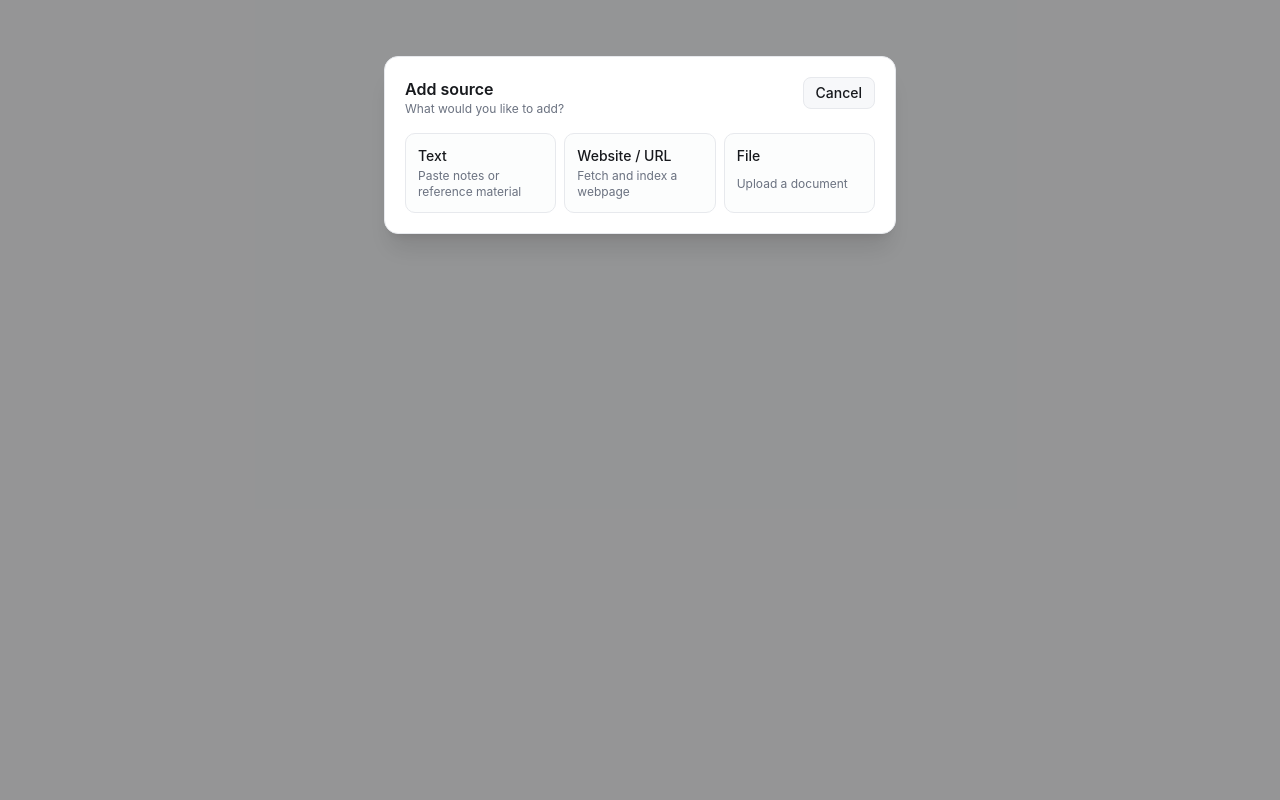
Test: AddSourceDialog › creates a text source and reports the queued lifecycle
Click the button "Text Paste notes or reference material": x=481, y=173 405,133 -> 556,213
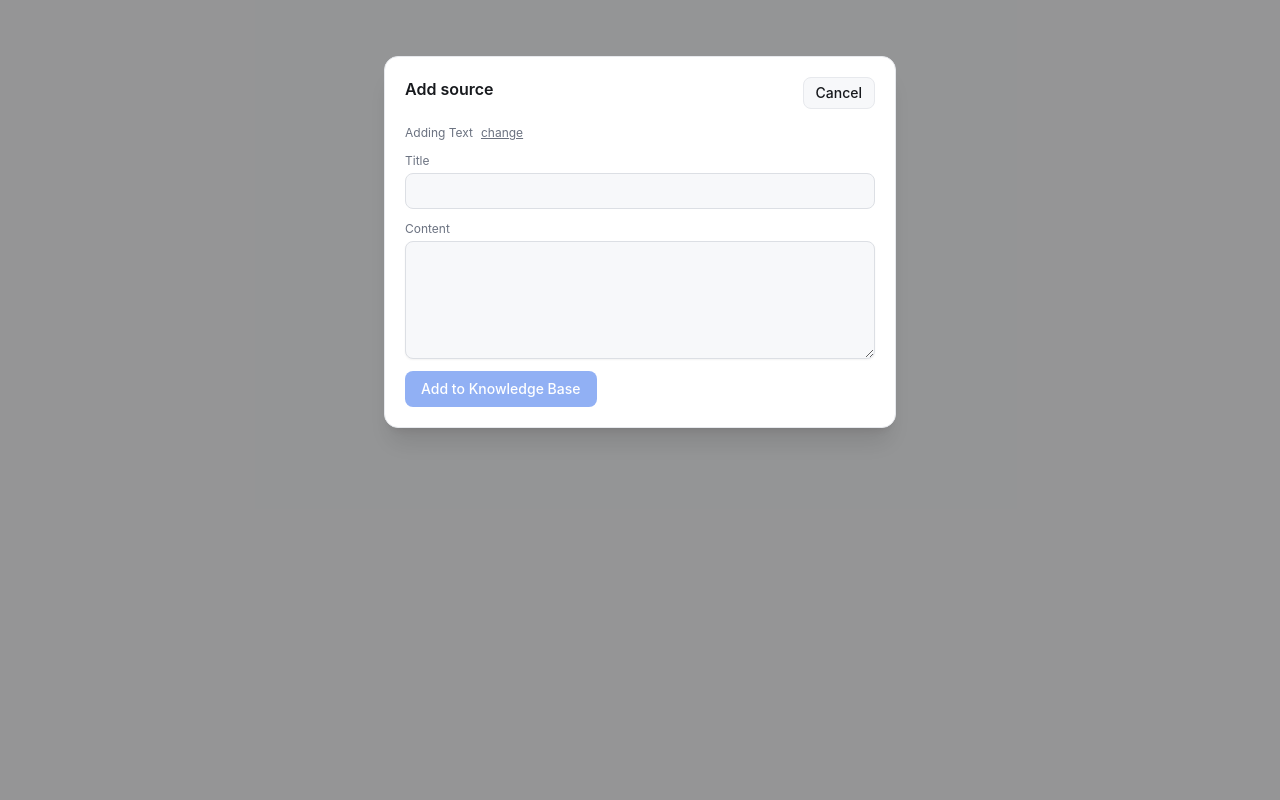
In the field labelled "Title": x=640, y=191 405,173 -> 875,209, type "Notes"
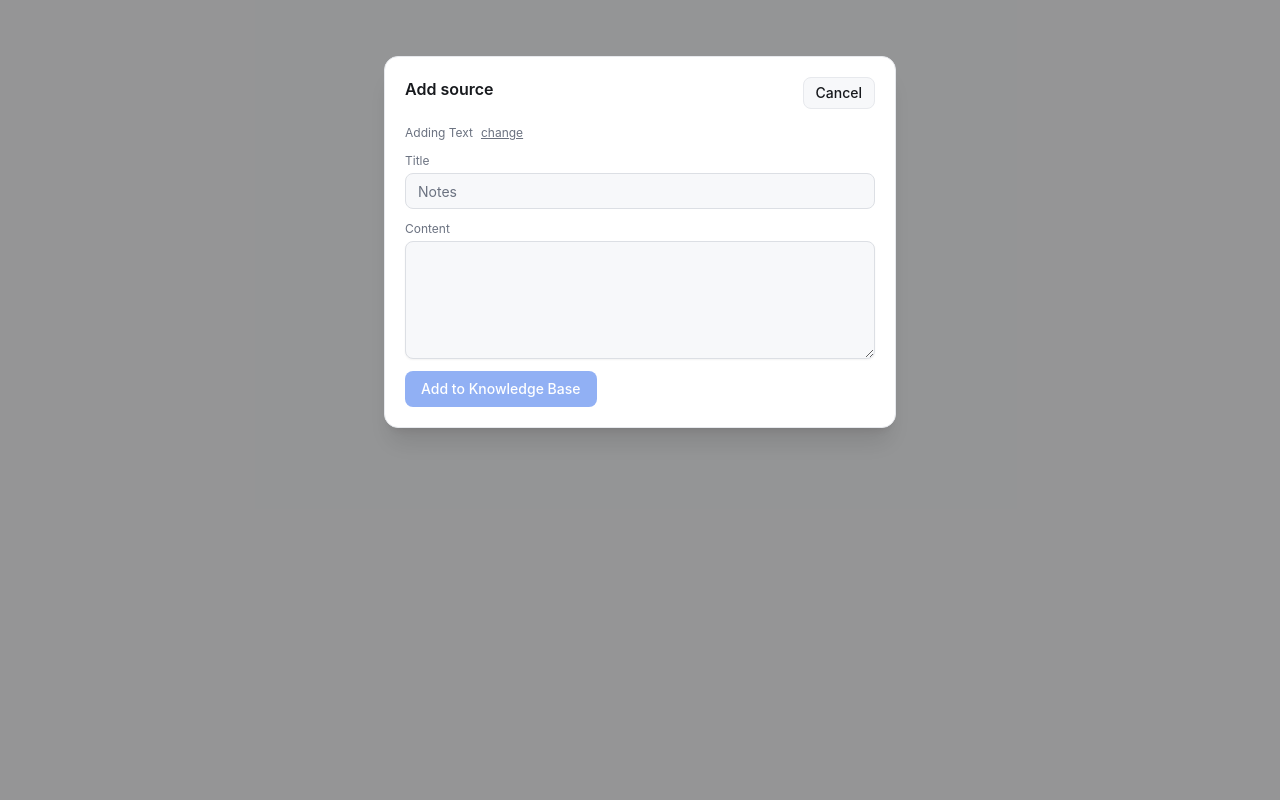
In the text box labelled "Content": x=640, y=300 405,241 -> 875,359, type "some content"
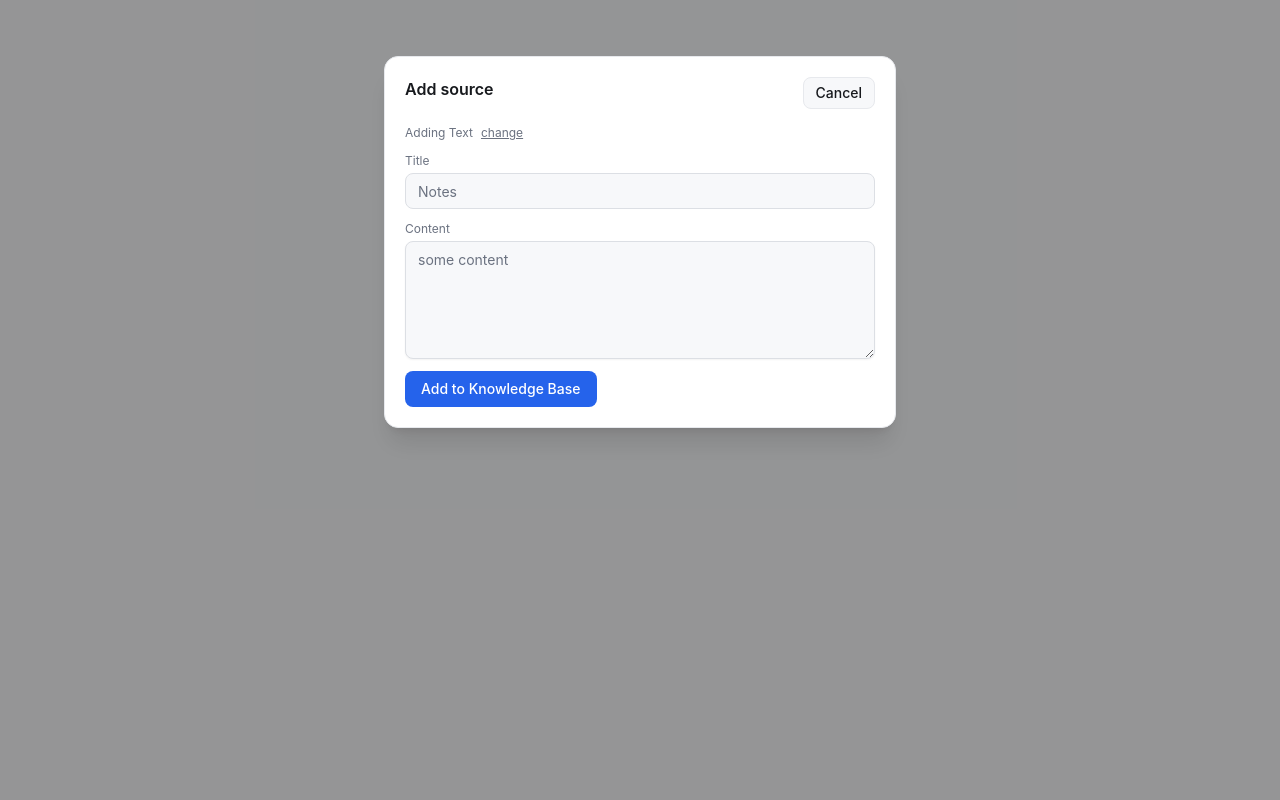
Click the button "Add to Knowledge Base": x=501, y=389 405,371 -> 596,407
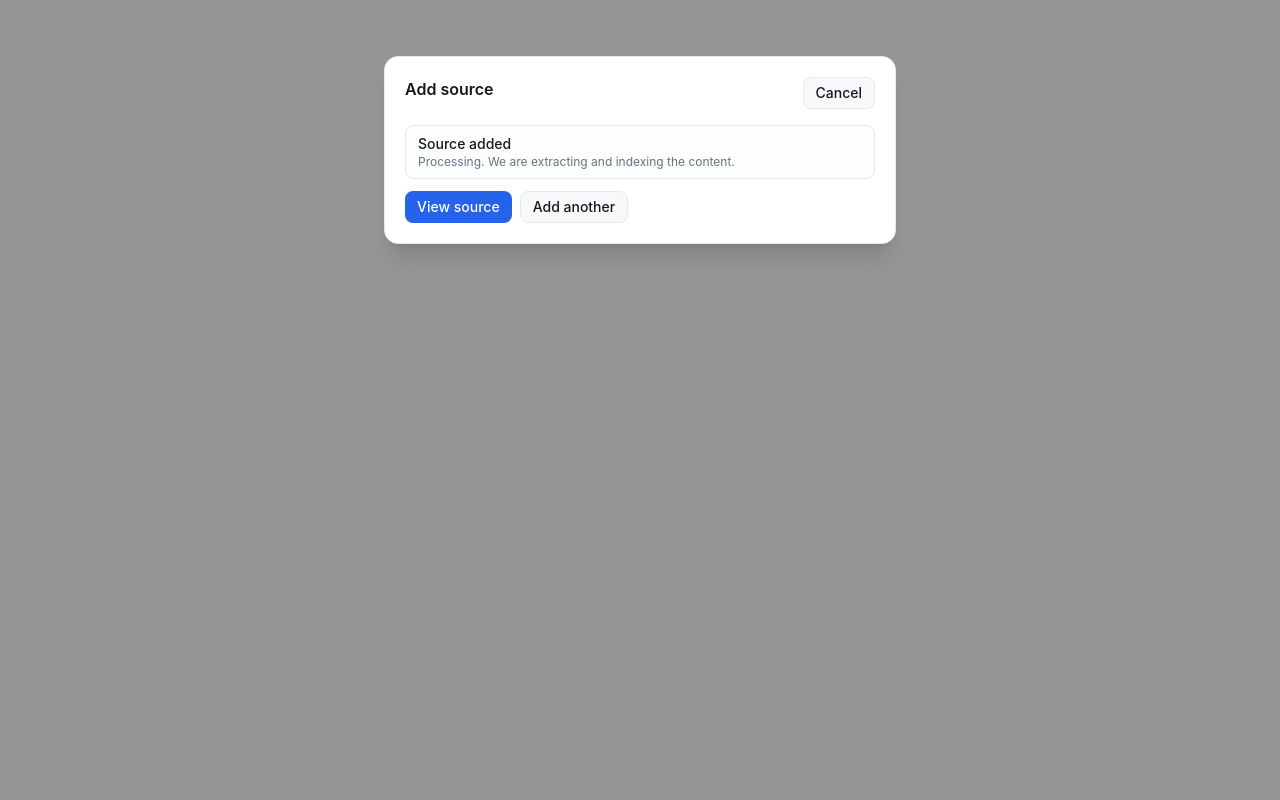
Expected: the text "Source added" is shown, 418,135 -> 511,152
